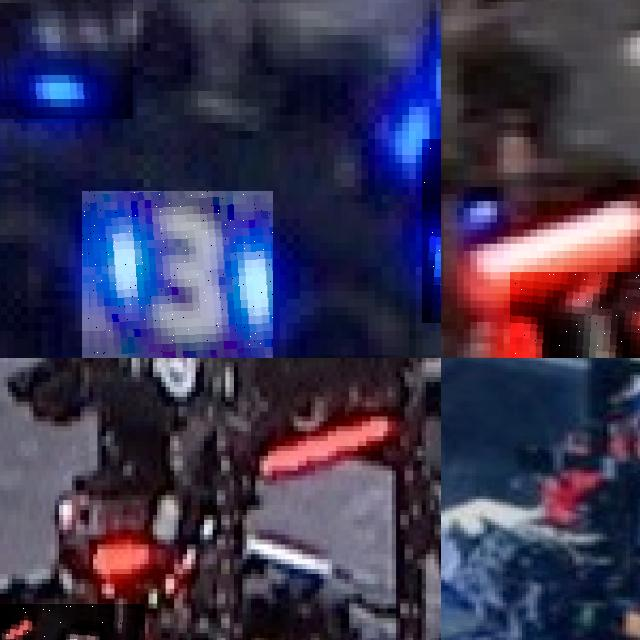B3: (82, 191, 272, 358), (0, 0, 133, 119)
R1: (510, 272, 640, 358), (0, 603, 144, 640)
